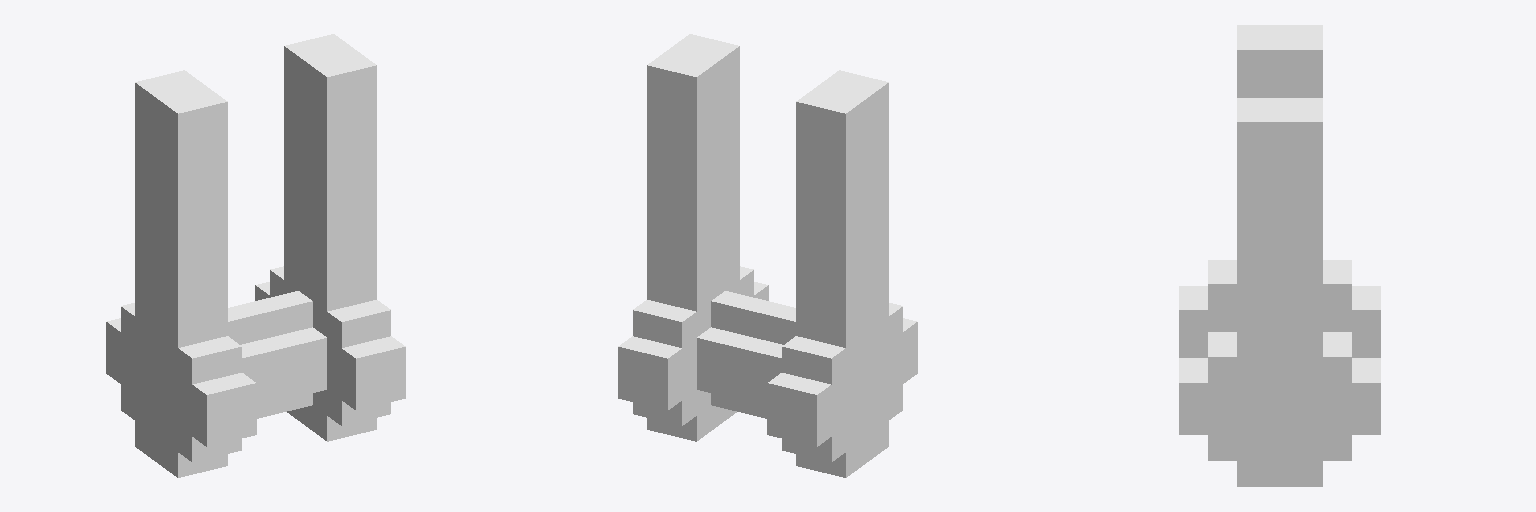
The model's file is turret_gun.obj.
3 views of the same model, side by side, from view 1: azimuth 30°, elevation 25°; view 2: azimuth 150°, elevation 25°; view 3: azimuth 270°, elevation 25° (orthographic).
Parts seen in each view (by area): view 1: object 1; view 2: object 1; view 3: object 1.
Boxes of the visible parts, <box> form: object 1: <box>106,34,405,477</box>; object 1: <box>618,34,917,477</box>; object 1: <box>1179,25,1380,486</box>.
Size of the model in its own units: 0.8 by 1.4 by 0.7.